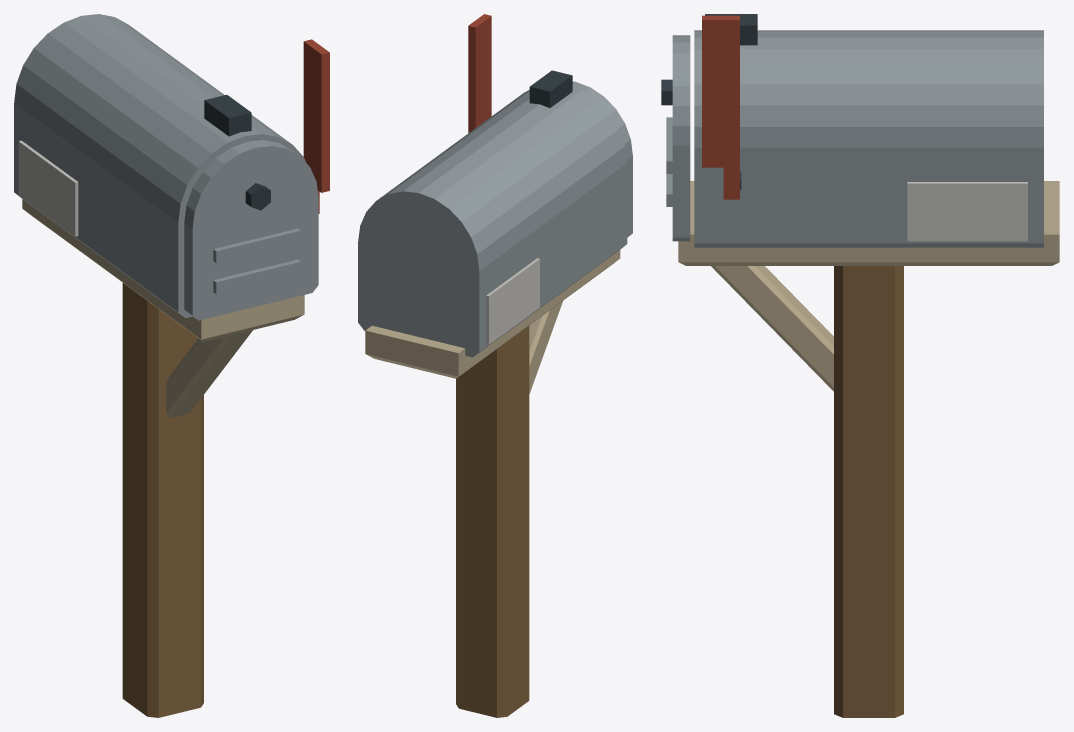
3 views of the same model, side by side, from view 1: azimuth 30°, elevation 25°; view 2: azimuth 150°, elevation 25°; view 3: azimuth 270°, elevation 25° (orthographic). The views are drawn at different scales.
Parts seen in each view (by area): view 1: mailbox-shell, door, flag; view 2: mailbox-shell, flag, door; view 3: mailbox-shell, flag, door.
Boxes of the visible parts, x1=… form: mailbox-shell: x1=14, y1=14, x2=305, y2=717; door: x1=184, y1=140, x2=318, y2=320; flag: x1=303, y1=39, x2=329, y2=213; mailbox-shell: x1=358, y1=70, x2=627, y2=717; flag: x1=468, y1=14, x2=491, y2=132; door: x1=572, y1=81, x2=632, y2=237; mailbox-shell: x1=678, y1=14, x2=1059, y2=717; flag: x1=702, y1=15, x2=739, y2=199; door: x1=661, y1=35, x2=690, y2=241.
Size of the model in its own units: 0.306 by 1.26 by 0.627.
